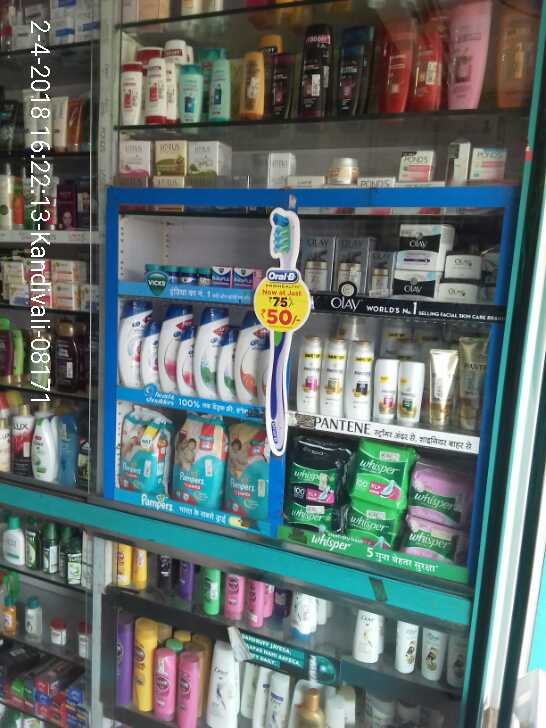vicks: (141, 263, 260, 291)
